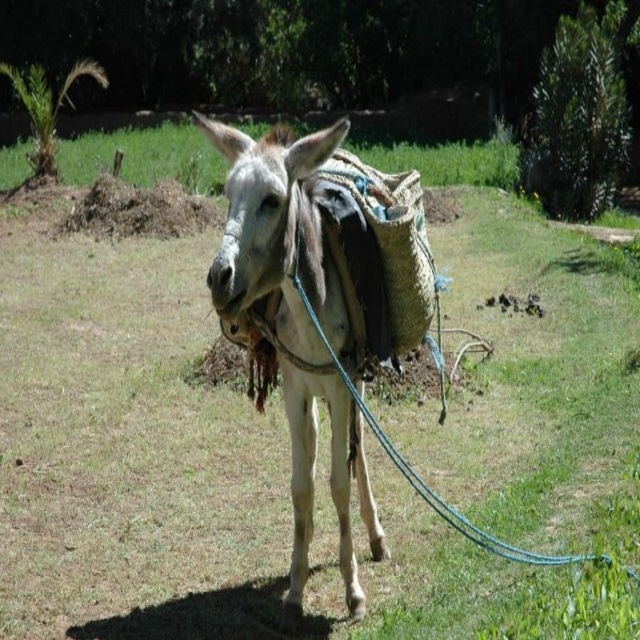Mule: (191, 109, 437, 627)
